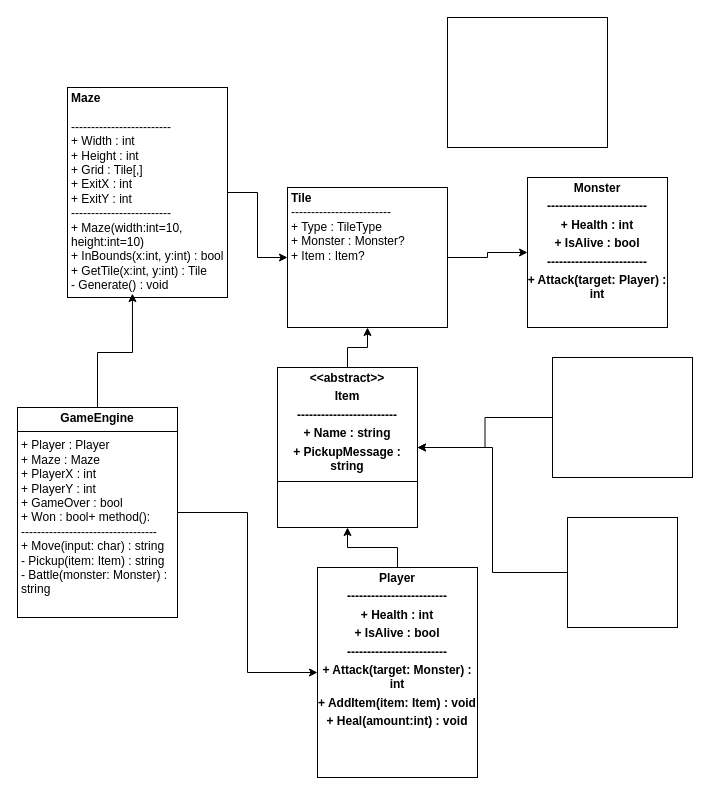
Image size: 710x795. Some labels were removed from this diagram. The centre of each missing label's shape, as x and y in pixels:
"Potion ------------------------- + HealAmount : int + Use(player: Player) : void" goes at [622,417].
"Tile Type <<enumeration>> TileType ------------------------- Empty Wall Exit" goes at [527,82].
"Weapon ------------------------- + Damage : int" goes at [622,572].
